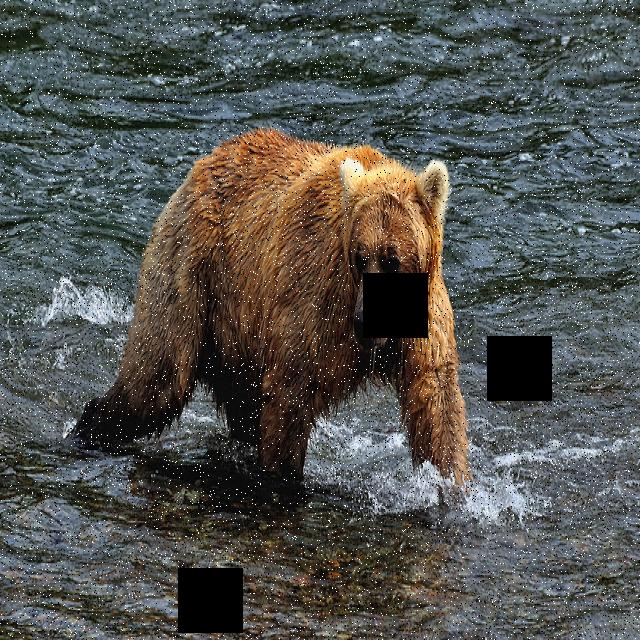Bear: (68, 131, 480, 520)
